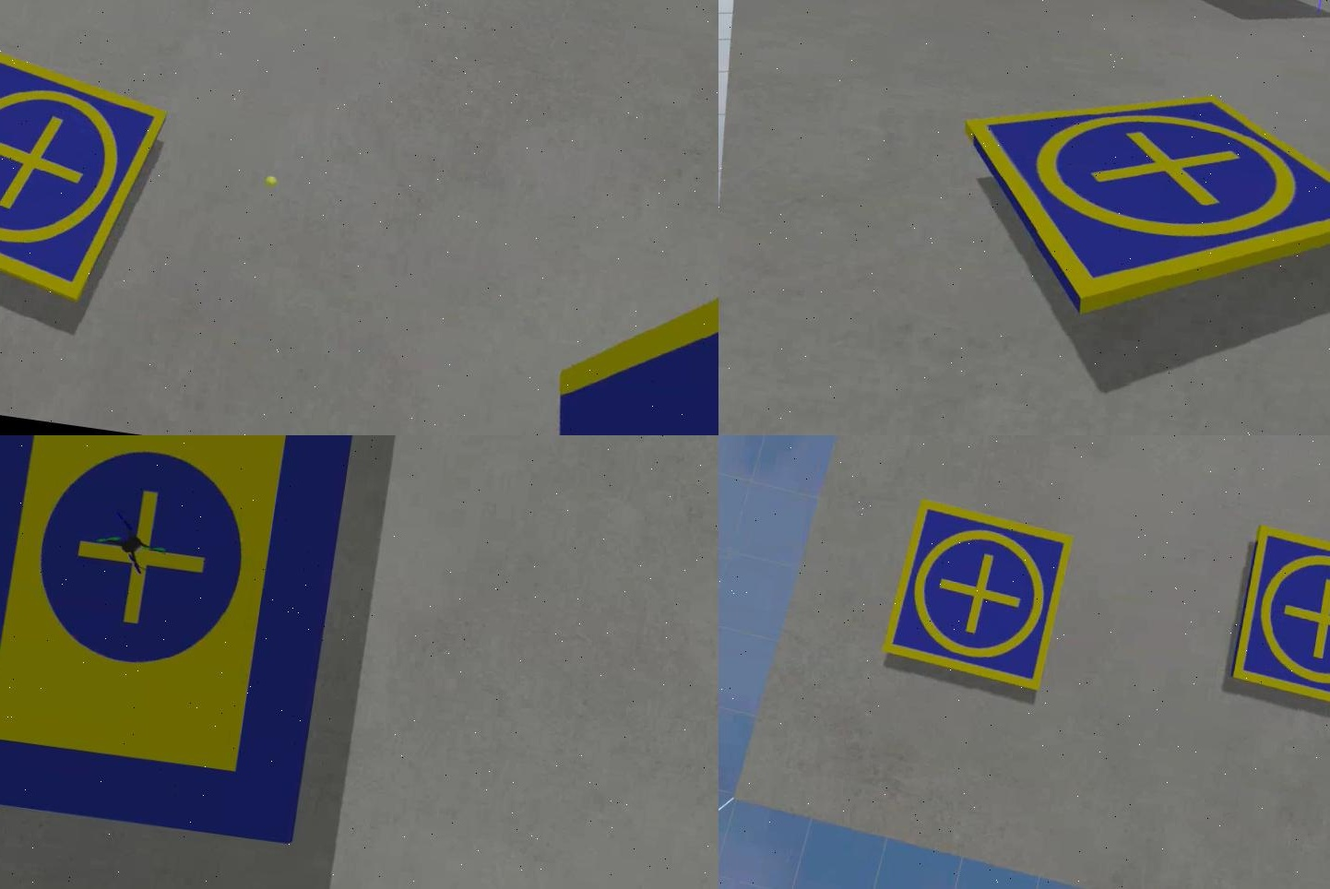large_base: (0, 435, 364, 838)
small_base: (929, 62, 1328, 356), (0, 36, 171, 308), (876, 495, 1076, 699), (1223, 524, 1328, 721)
